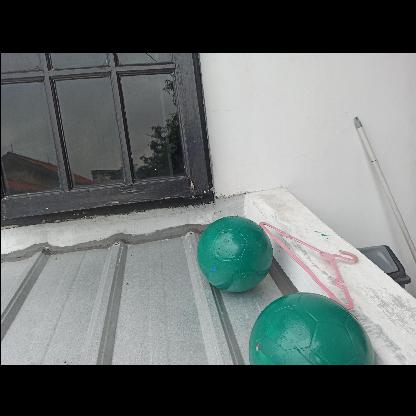green_ball: (196, 214, 272, 289)
